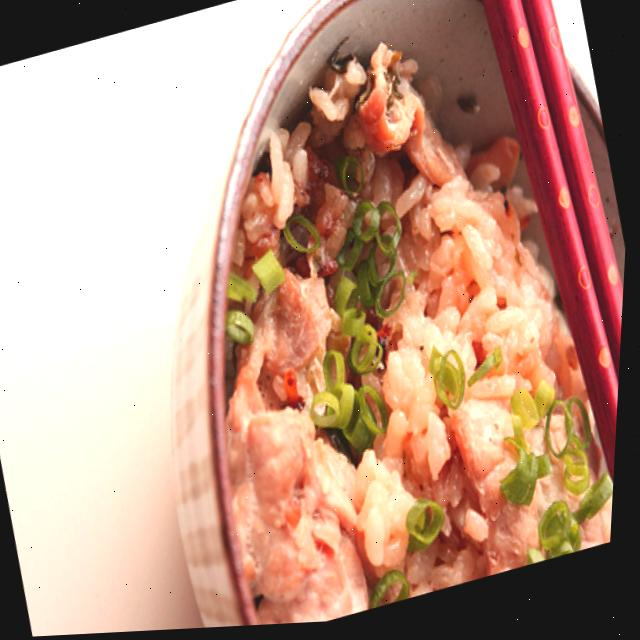米饭主食: (148, 6, 639, 633)
